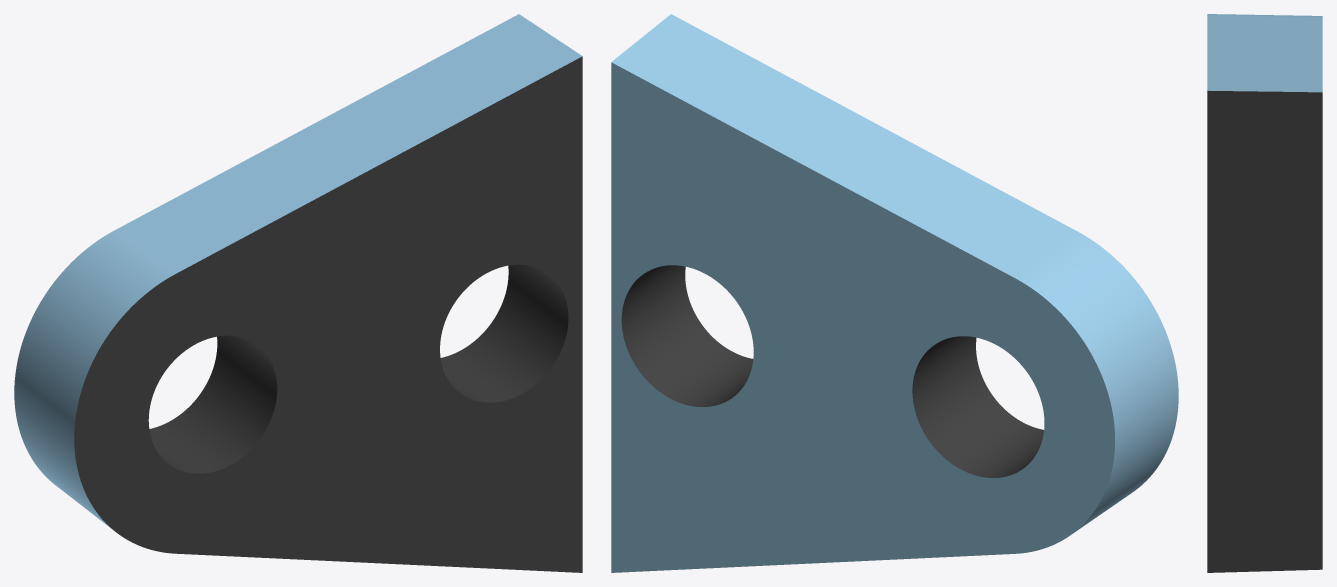
The model's file is Assembly 1 - Part 3.obj.
3 views of the same model, side by side, from view 1: azimuth 30°, elevation 25°; view 2: azimuth 150°, elevation 25°; view 3: azimuth 270°, elevation 25° (orthographic). The views are drawn at different scales.
Visible parts, largest first — view 1: mesh1, mesh6, mesh3, mesh7, mesh0; view 2: mesh2, mesh6, mesh3, mesh0, mesh7; view 3: mesh5, mesh6, mesh3.
Boxes of the visible parts, box(x1,y1,x2,y2) form: mesh1: box(74, 56, 582, 572); mesh6: box(115, 14, 582, 273); mesh3: box(14, 230, 175, 529); mesh7: box(440, 264, 568, 402); mesh0: box(149, 335, 277, 473); mesh2: box(611, 62, 1114, 572); mesh6: box(611, 14, 1076, 277); mesh3: box(1015, 231, 1178, 533); mesh0: box(912, 336, 1043, 477); mesh7: box(621, 265, 753, 406); mesh5: box(1207, 90, 1322, 572); mesh6: box(1207, 16, 1322, 92); mesh3: box(1207, 14, 1322, 17).
Bounding box in the file's own units: 0.0119 × 0.0115 × 0.0025.
